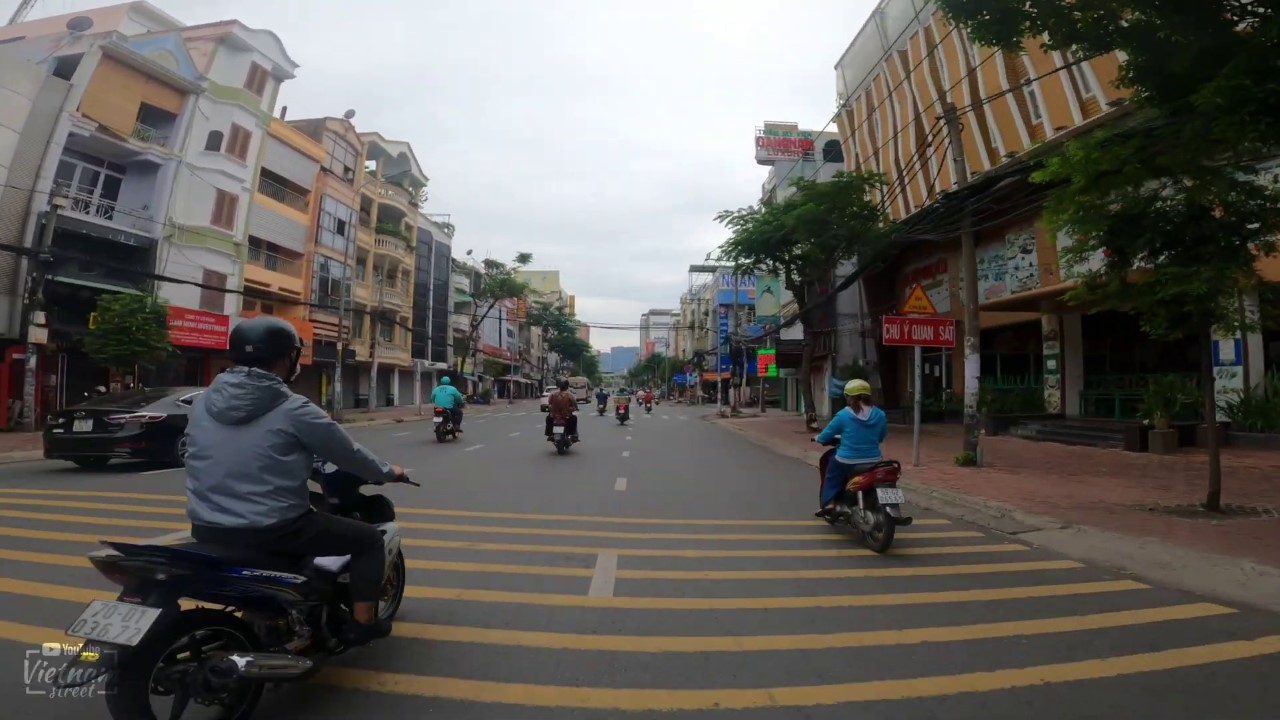di_cham: (899, 282, 938, 316)
